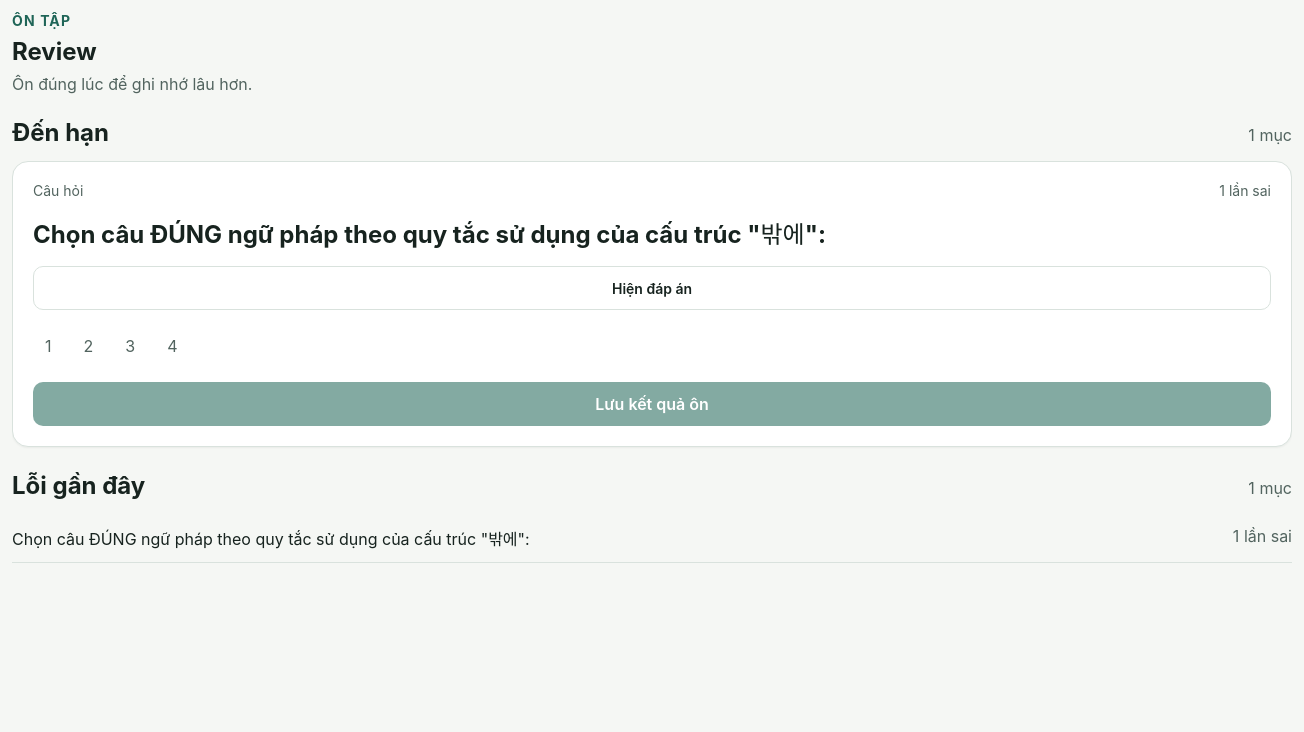
Test case: ReviewPage › removes a graded item from the due queue and persists its next review
Expected: the heading "Chọn câu ĐÚNG ngữ pháp" is shown, x1=33 y1=220 x2=826 y2=249
What coordinates should you click on to do the following:
click the button "Hiện đáp án"
I would click on:
 (652, 288)
Its box is x1=33 y1=266 x2=1271 y2=310.
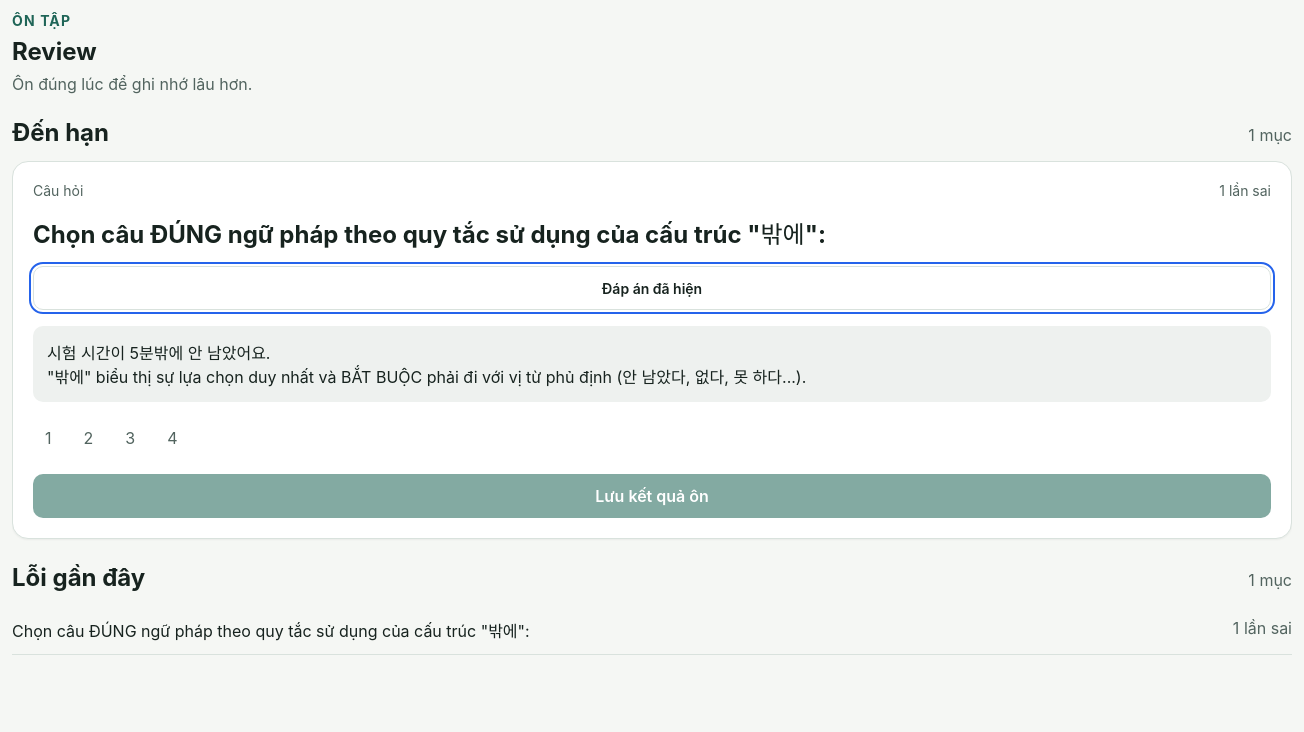
What coordinates should you click on to do the following:
click the button "3"
I would click on:
 (130, 438)
Its box is x1=113 y1=418 x2=147 y2=458.
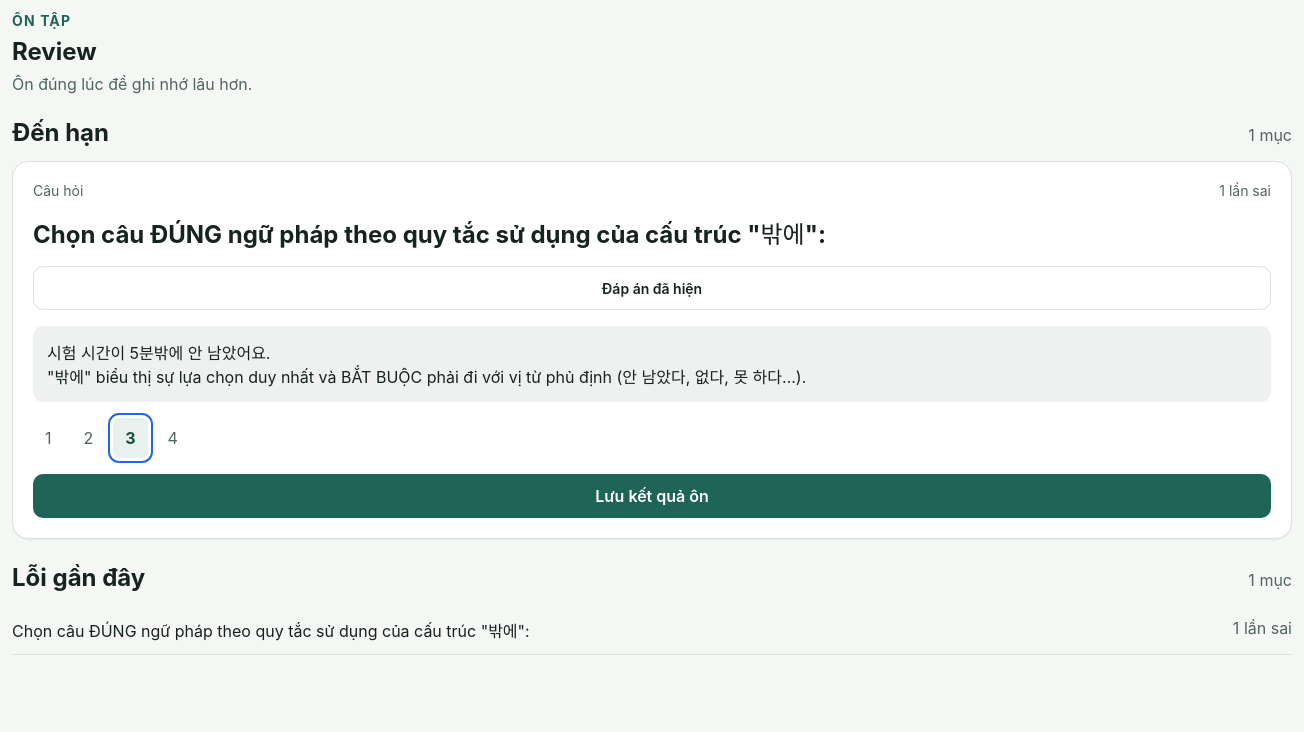
What coordinates should you click on to do the following:
click the button "Lưu kết quả ôn"
I would click on:
 (652, 496)
Its box is x1=33 y1=474 x2=1271 y2=518.
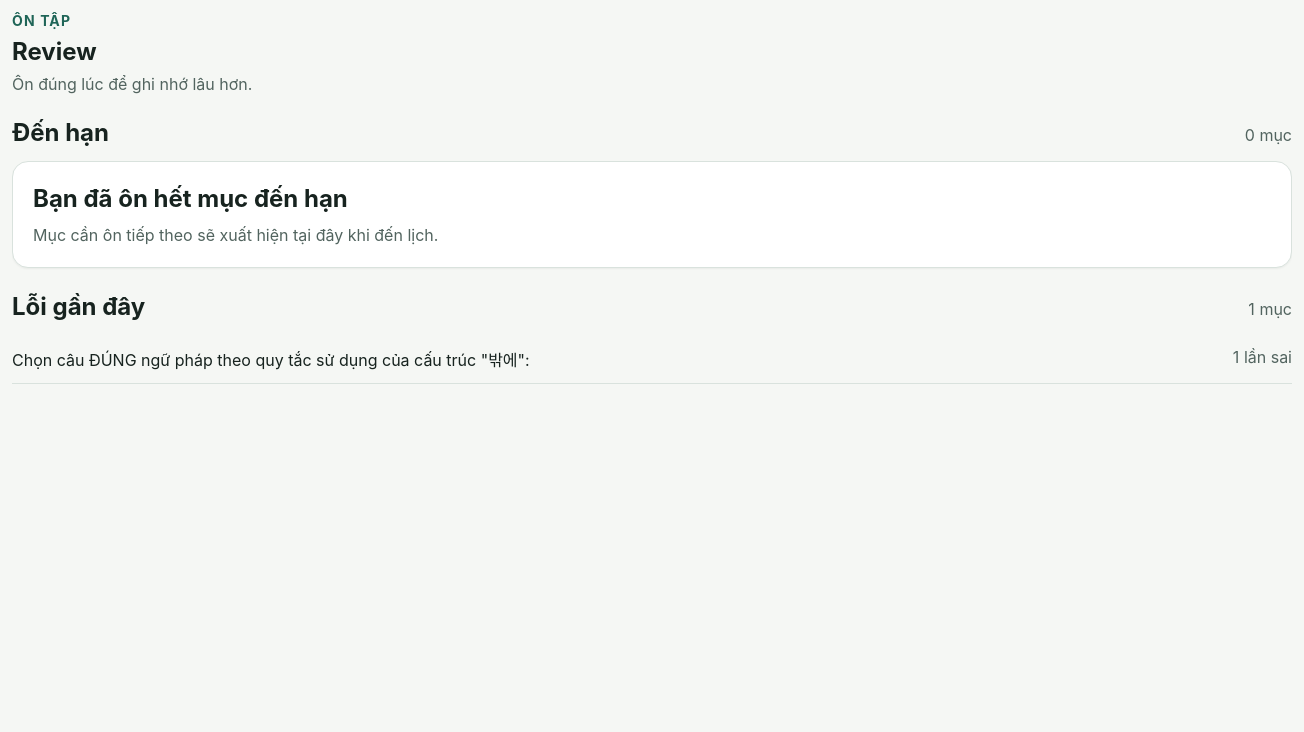
Expected: the text "1 lần sai" is shown, x1=1233 y1=347 x2=1292 y2=371
Expected: the heading "Bạn đã ôn hết mục đến hạn" is shown, x1=33 y1=184 x2=348 y2=213
